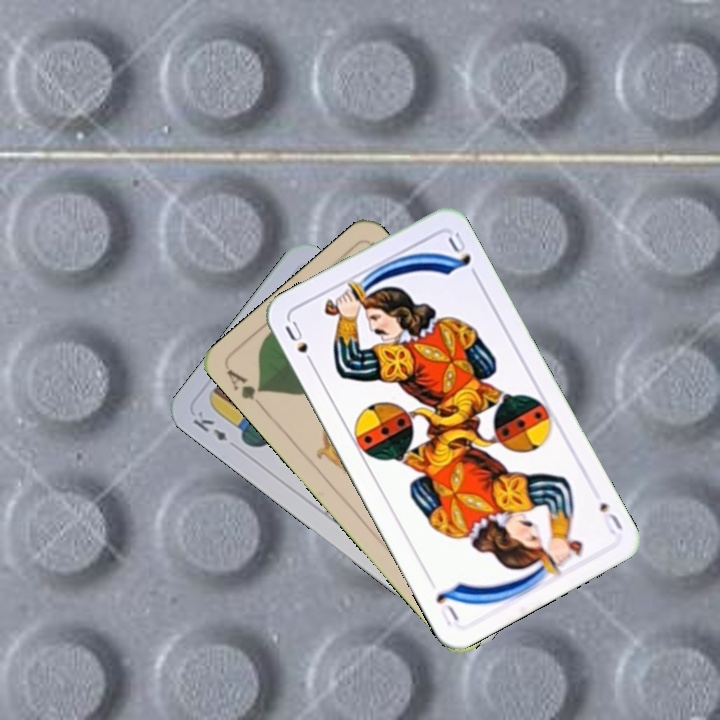EK: (188, 407, 241, 452)
GA: (221, 365, 268, 413)
SU: (281, 317, 318, 371), (595, 498, 626, 537)
